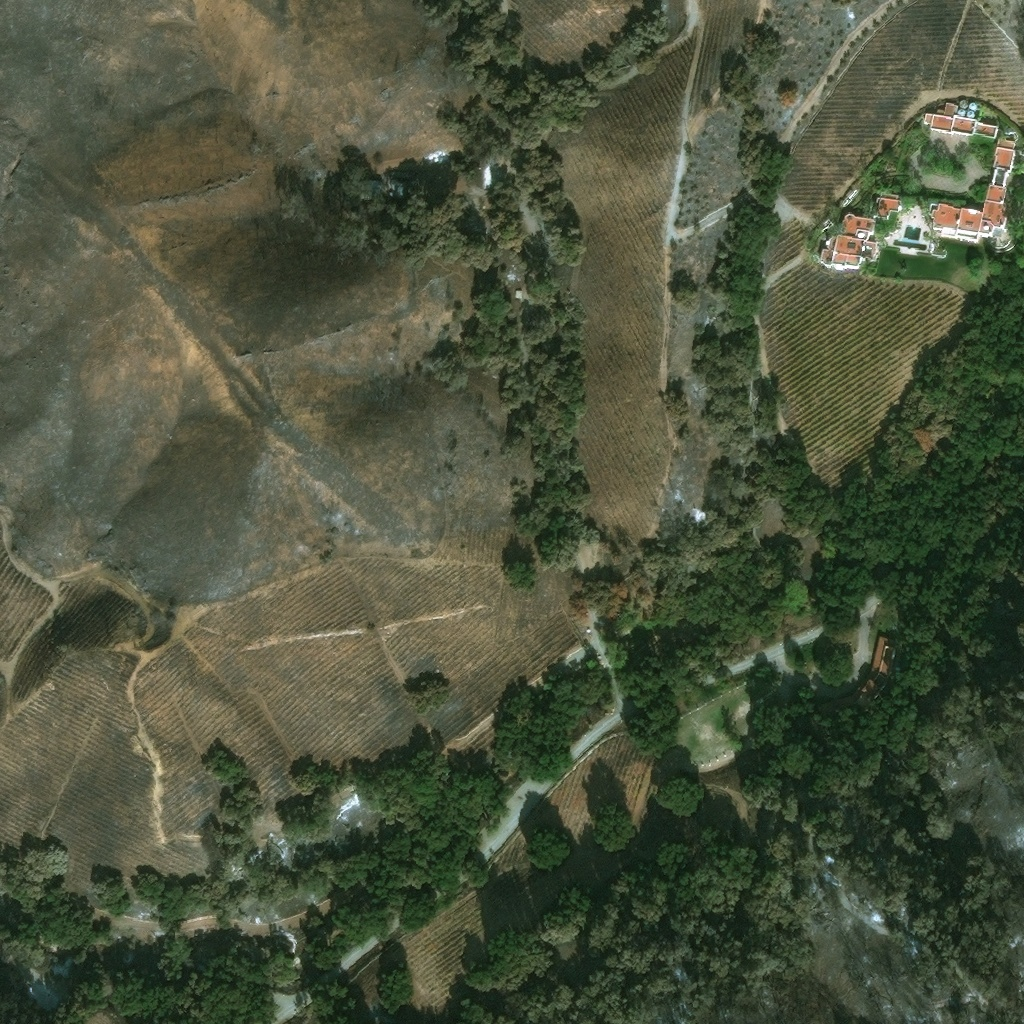0 no-damage: (923, 102, 1016, 244), (829, 630, 900, 723), (819, 210, 878, 267), (872, 191, 901, 217), (387, 171, 417, 190), (459, 198, 475, 218), (367, 178, 382, 193), (966, 99, 977, 109), (514, 288, 524, 297), (958, 98, 968, 107), (965, 108, 975, 116), (956, 107, 966, 114)
